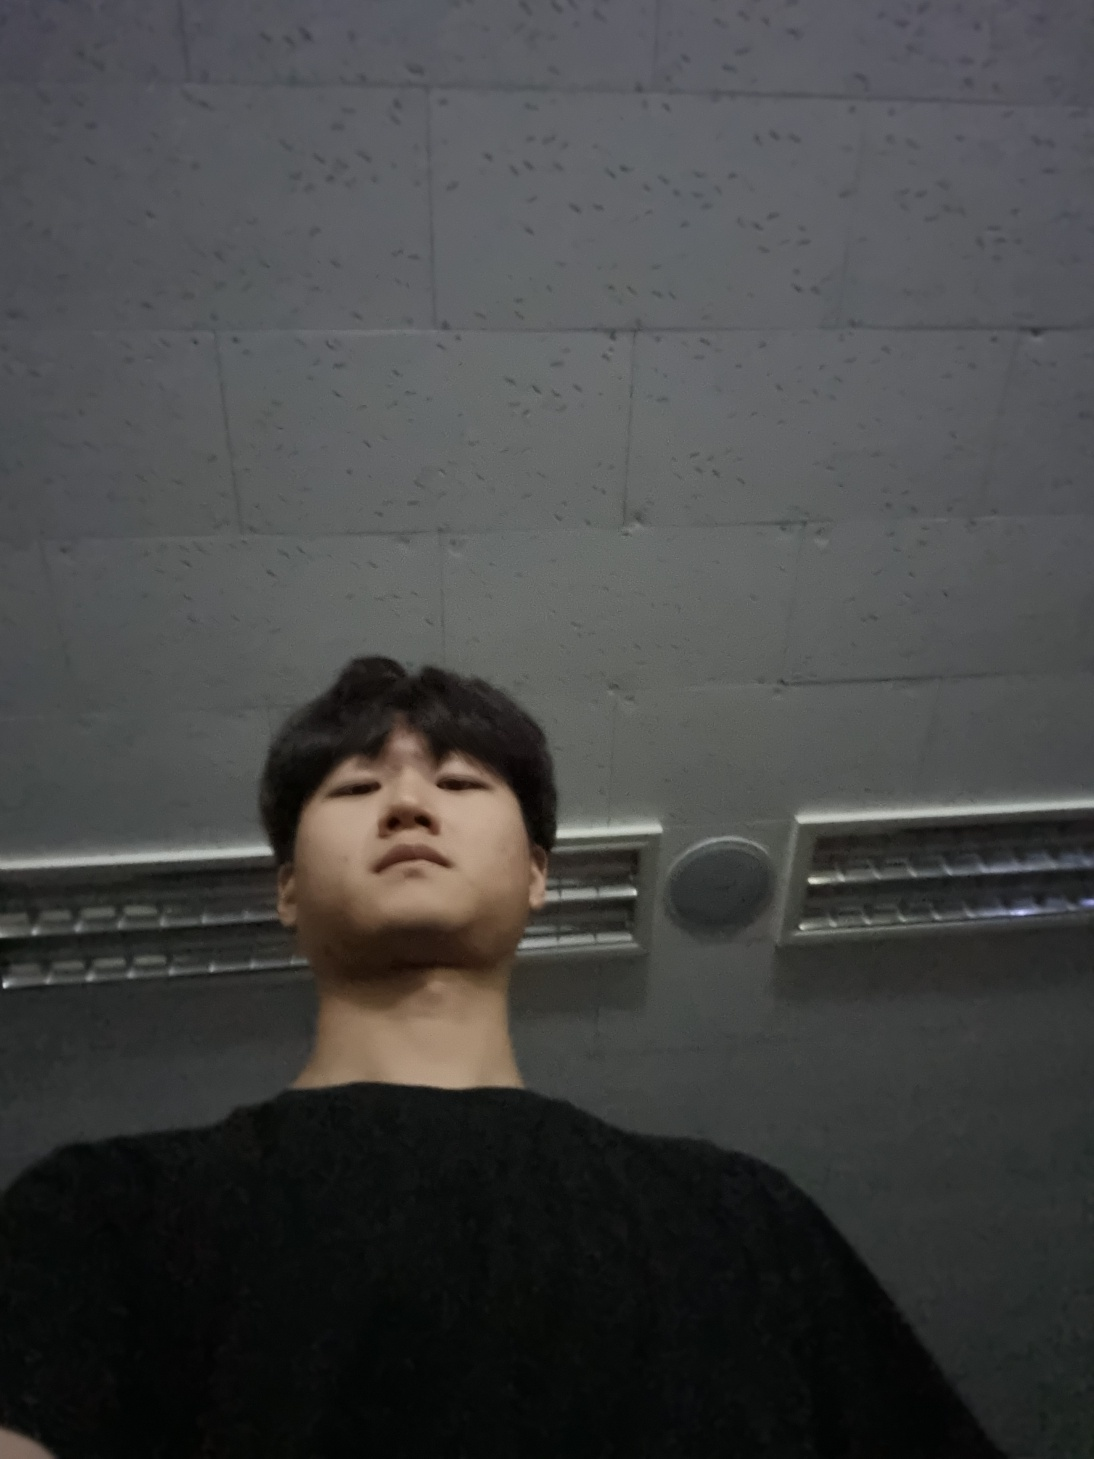Non-Helmet: (225, 627, 610, 1025)
